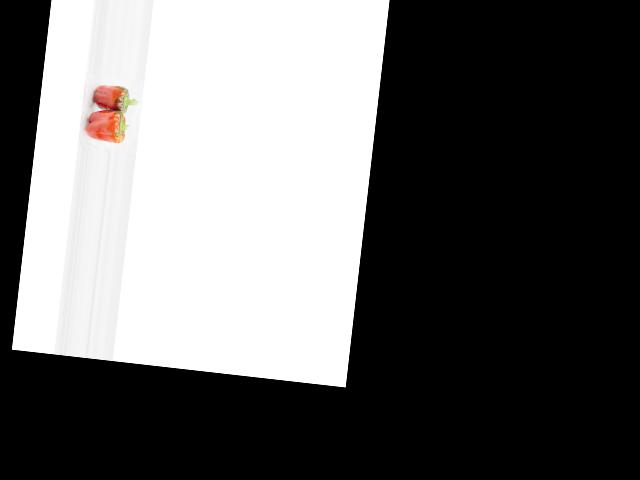bell_pepper: (83, 108, 133, 149)
